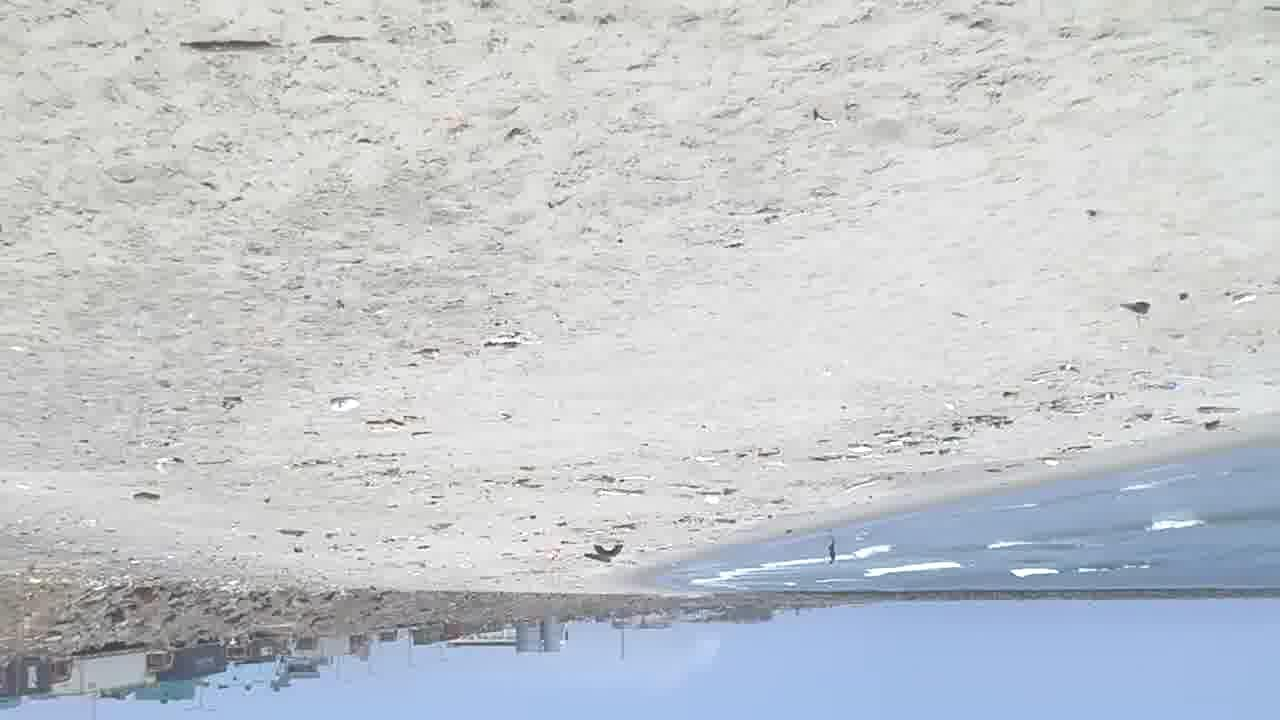large collection of objects: (828, 535, 838, 564)
obj: (180, 40, 274, 54), (478, 335, 542, 350), (328, 395, 359, 412), (593, 544, 623, 557), (133, 491, 159, 502)
sand/background: (0, 430, 1280, 719)
